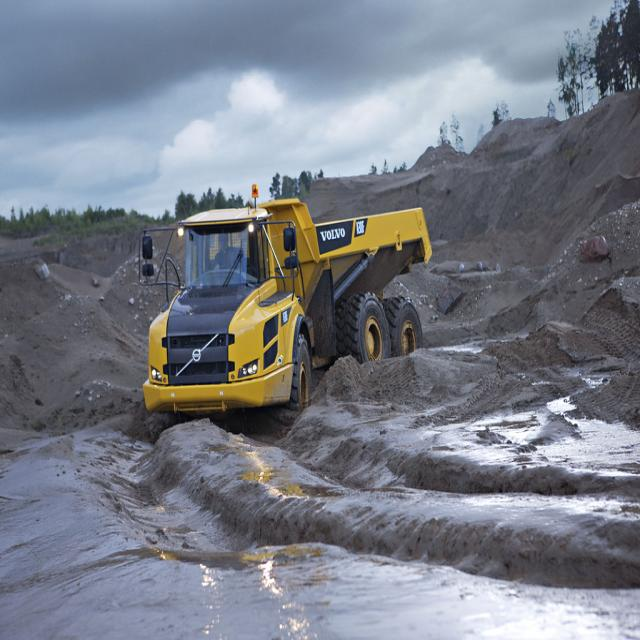dump_truck: (130, 179, 446, 423)
